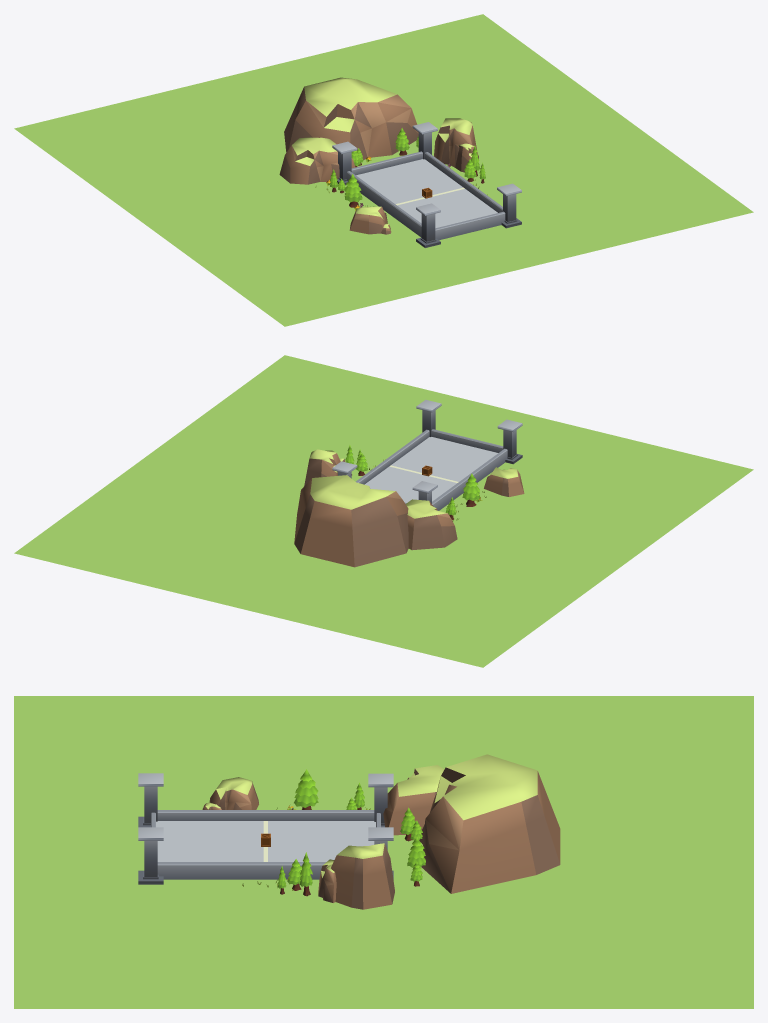
The model's file is Map.fbx.
3 renders of one model, top to bottom at view 1: azimuth 30°, elevation 25°; view 2: azimuth 150°, elevation 25°; view 3: azimuth 270°, elevation 25°, orthographic. The views are drawn at different scales.
Visible parts, largest first — view 1: Ground, Mountain, Arena, Tree; view 2: Ground, Mountain, Arena, Tree; view 3: Ground, Mountain, Arena, Tree.
Part boxes in pixels (x1=…): Ground: x1=14, y1=14, x2=753, y2=326; Mountain: x1=279, y1=77, x2=478, y2=234; Arena: x1=332, y1=122, x2=521, y2=247; Tree: x1=330, y1=128, x2=485, y2=207; Ground: x1=14, y1=355, x2=753, y2=667; Mountain: x1=294, y1=449, x2=524, y2=567; Arena: x1=332, y1=399, x2=522, y2=510; Tree: x1=345, y1=445, x2=479, y2=520; Ground: x1=14, y1=696, x2=753, y2=1008; Mountain: x1=202, y1=754, x2=560, y2=909; Arena: x1=138, y1=773, x2=393, y2=884; Tree: x1=277, y1=769, x2=425, y2=896.
Bounding box in the file's own units: 13063 × 1438 × 13063.
